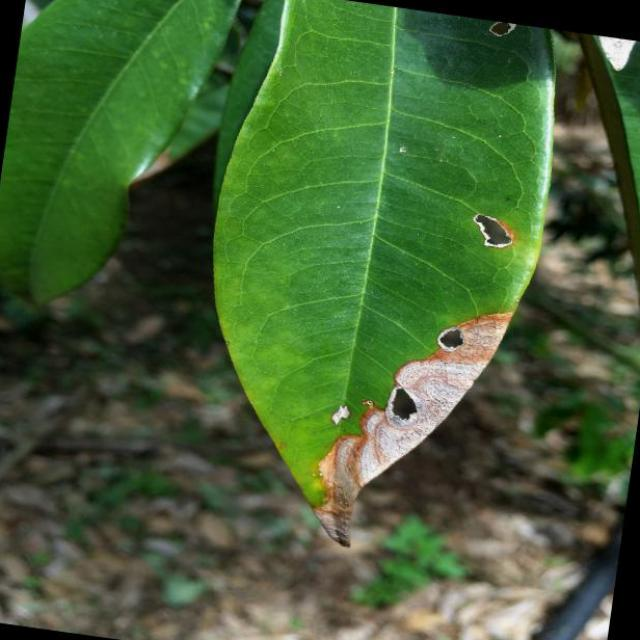Leaf Blight: (162, 1, 580, 576)
